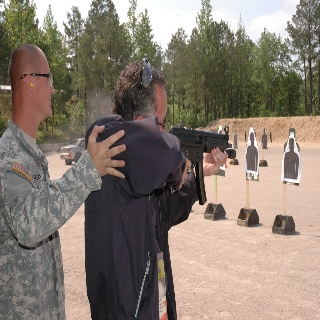rifle: (153, 124, 237, 207)
